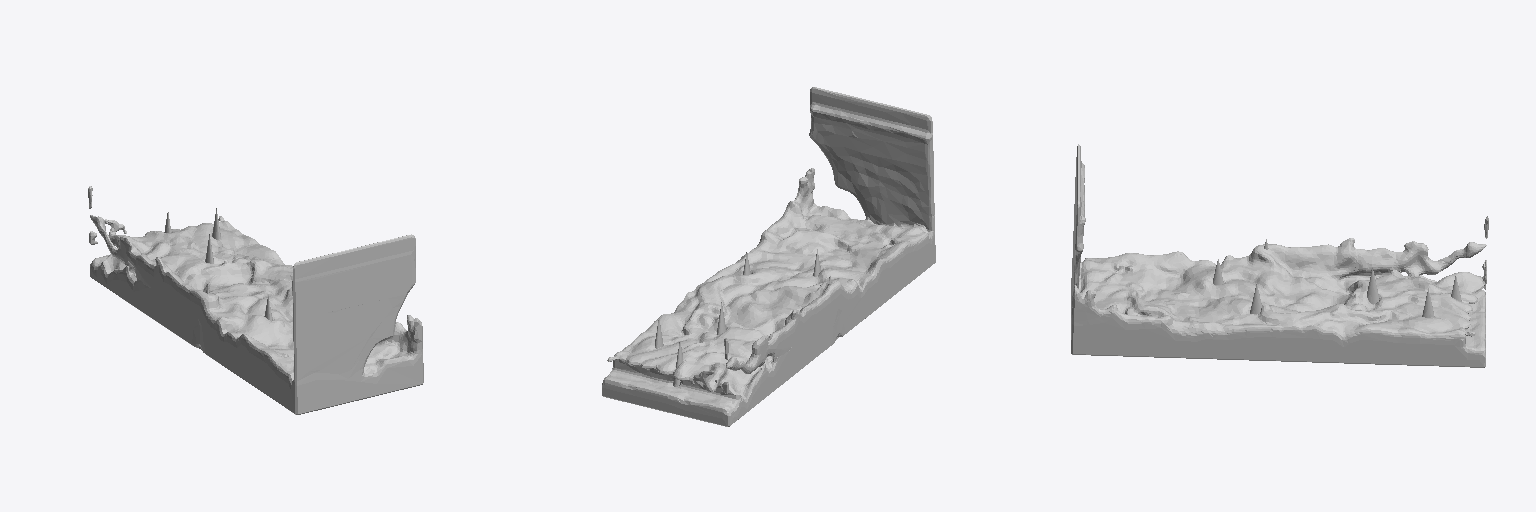
3 renders of one model, left to right at view 1: azimuth 30°, elevation 25°; view 2: azimuth 150°, elevation 25°; view 3: azimuth 270°, elevation 25°, orthographic.
Parts seen in each view (by area): view 1: Liquid_Domain; view 2: Liquid_Domain; view 3: Liquid_Domain.
Boxes of the visible parts, x1=… form: Liquid_Domain: x1=88, y1=186, x2=423, y2=414; Liquid_Domain: x1=602, y1=87, x2=935, y2=426; Liquid_Domain: x1=1071, y1=144, x2=1488, y2=367.
Size of the model in its own units: 129 by 157 by 363.